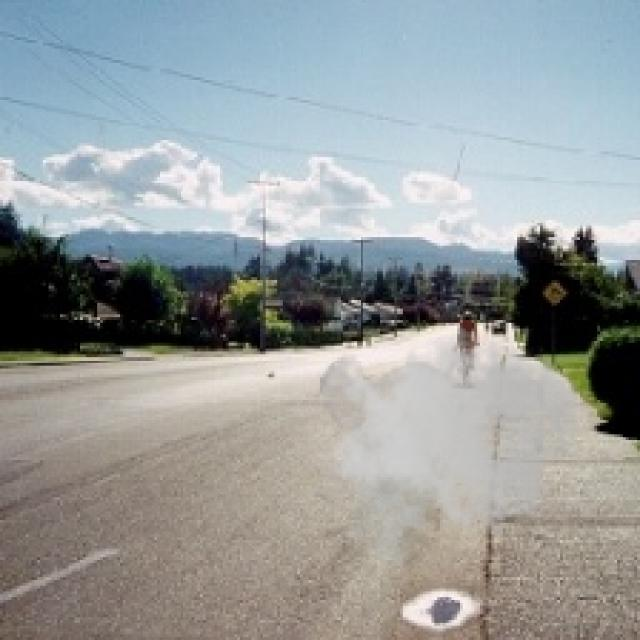smoke: (314, 311, 583, 566)
